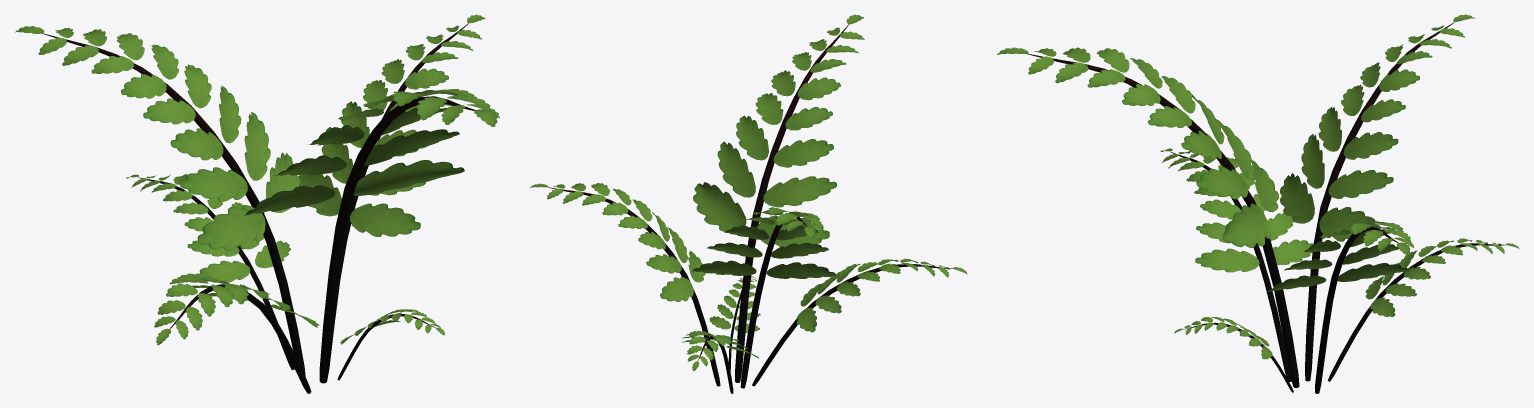
Rendered from fern_with_wind.fbx.
The picture shows the model from 3 angles, left to right: view 1: azimuth 30°, elevation 25°; view 2: azimuth 150°, elevation 25°; view 3: azimuth 270°, elevation 25°; orthographic projection. The views are drawn at different scales.
Visible parts, largest first — view 1: fern_LOD_0; view 2: fern_LOD_0; view 3: fern_LOD_0.
Boxes of the visible parts, box(x1,y1,x2,y2) form: fern_LOD_0: box(15, 14, 499, 393); fern_LOD_0: box(530, 14, 967, 393); fern_LOD_0: box(997, 14, 1519, 393).
Bounding box in the file's own units: 41.18 × 32.83 × 45.86.
